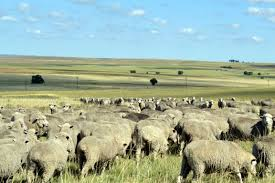sheep: (181, 140, 257, 183), (76, 134, 129, 178), (28, 134, 69, 183), (228, 113, 273, 142), (135, 121, 179, 147), (138, 126, 169, 160), (56, 122, 75, 137)
